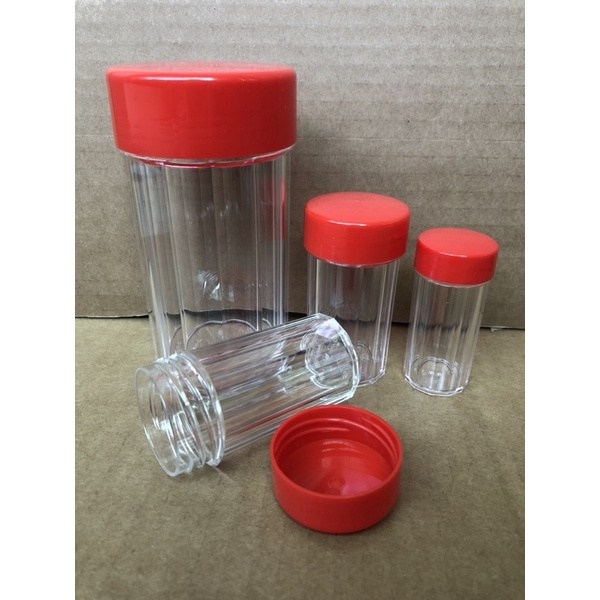medicinejar: (126, 313, 433, 544), (101, 65, 299, 372), (305, 186, 404, 402), (411, 216, 503, 411)
